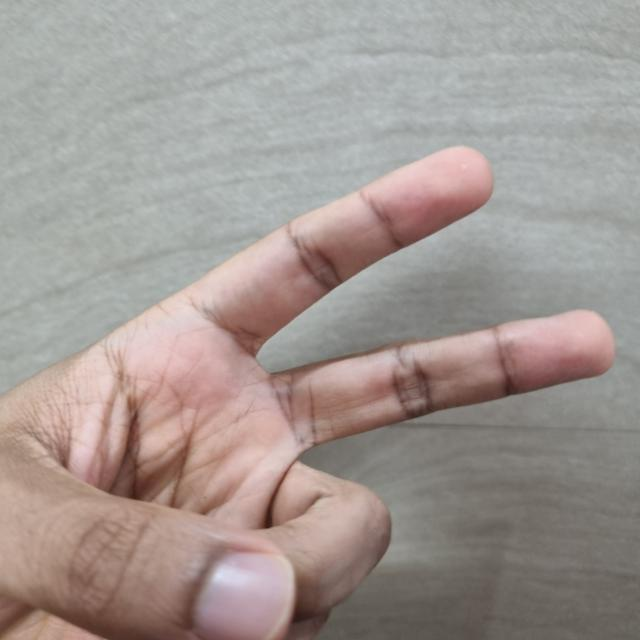Scissors: (0, 152, 608, 640)
